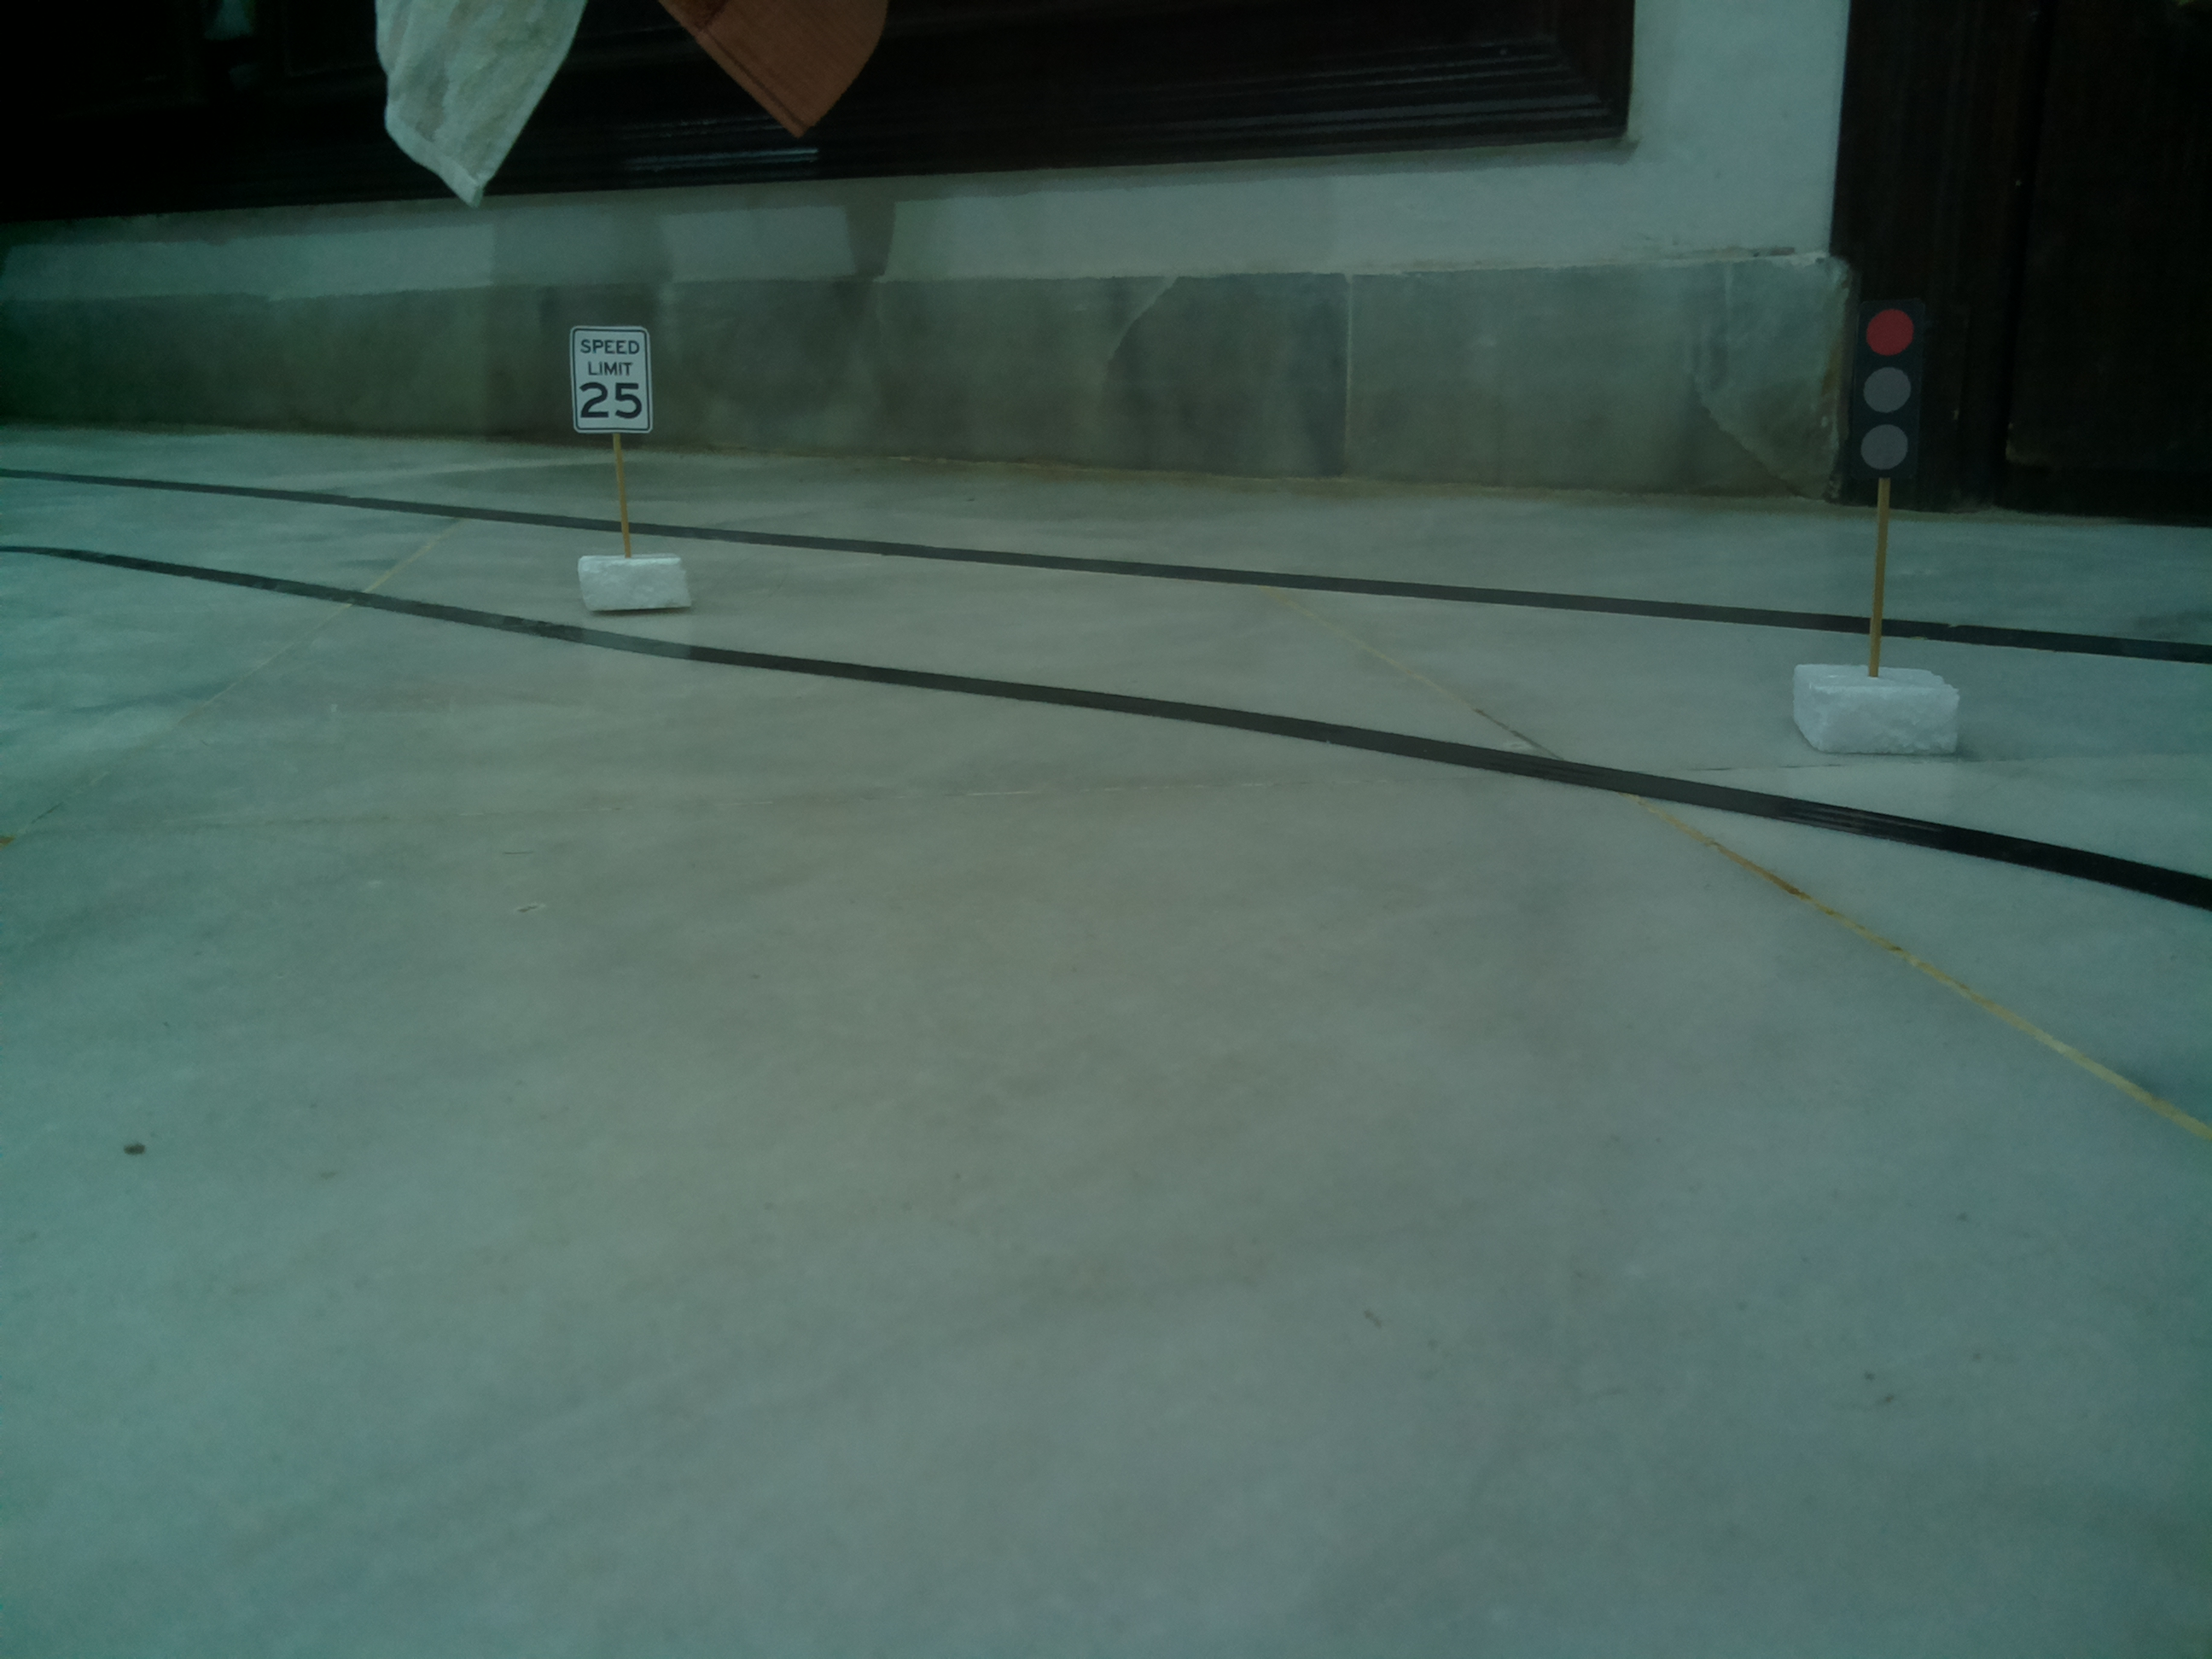Red traffic light: (1841, 281, 1926, 490)
Speed limit 25: (561, 321, 665, 439)
